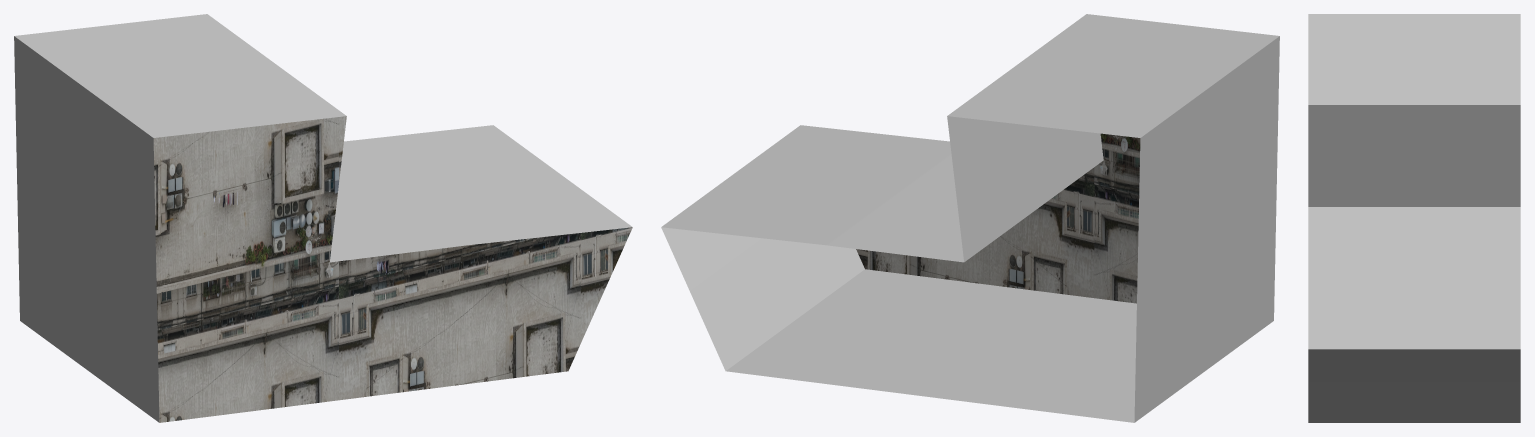
Rendered from geospecific_1003.obj.
3 views of the same model, side by side, from view 1: azimuth 30°, elevation 25°; view 2: azimuth 150°, elevation 25°; view 3: azimuth 270°, elevation 25° (orthographic). The views are drawn at different scales.
Visible parts, largest first — view 1: Building; view 2: Building; view 3: Building.
Boxes of the visible parts, x1,y1,x2,y2 form: Building: [14, 14, 632, 422]; Building: [661, 14, 1279, 422]; Building: [1308, 14, 1520, 422].
Size of the model in its own units: 53.57 by 35.71 by 27.
